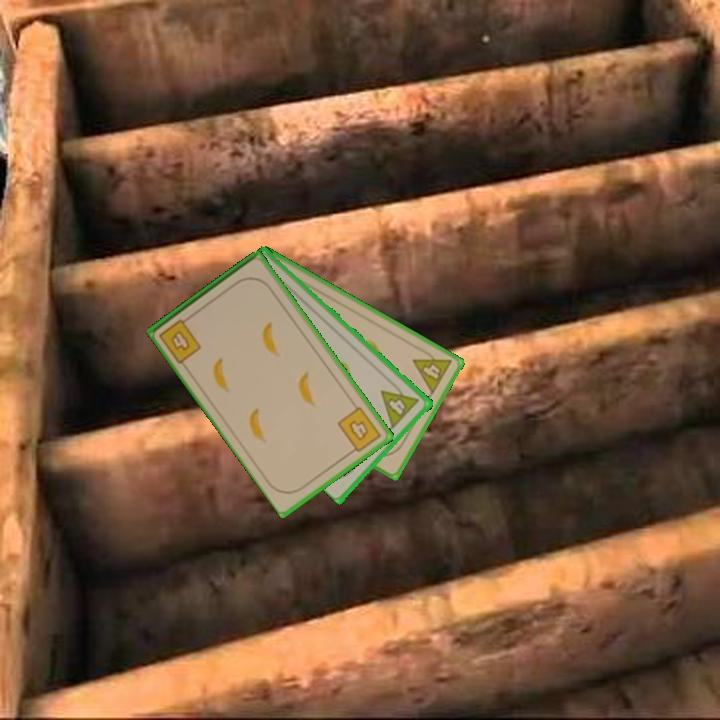4b: (334, 403, 384, 457), (155, 312, 205, 366)
4p: (409, 344, 455, 397), (378, 378, 422, 431)
